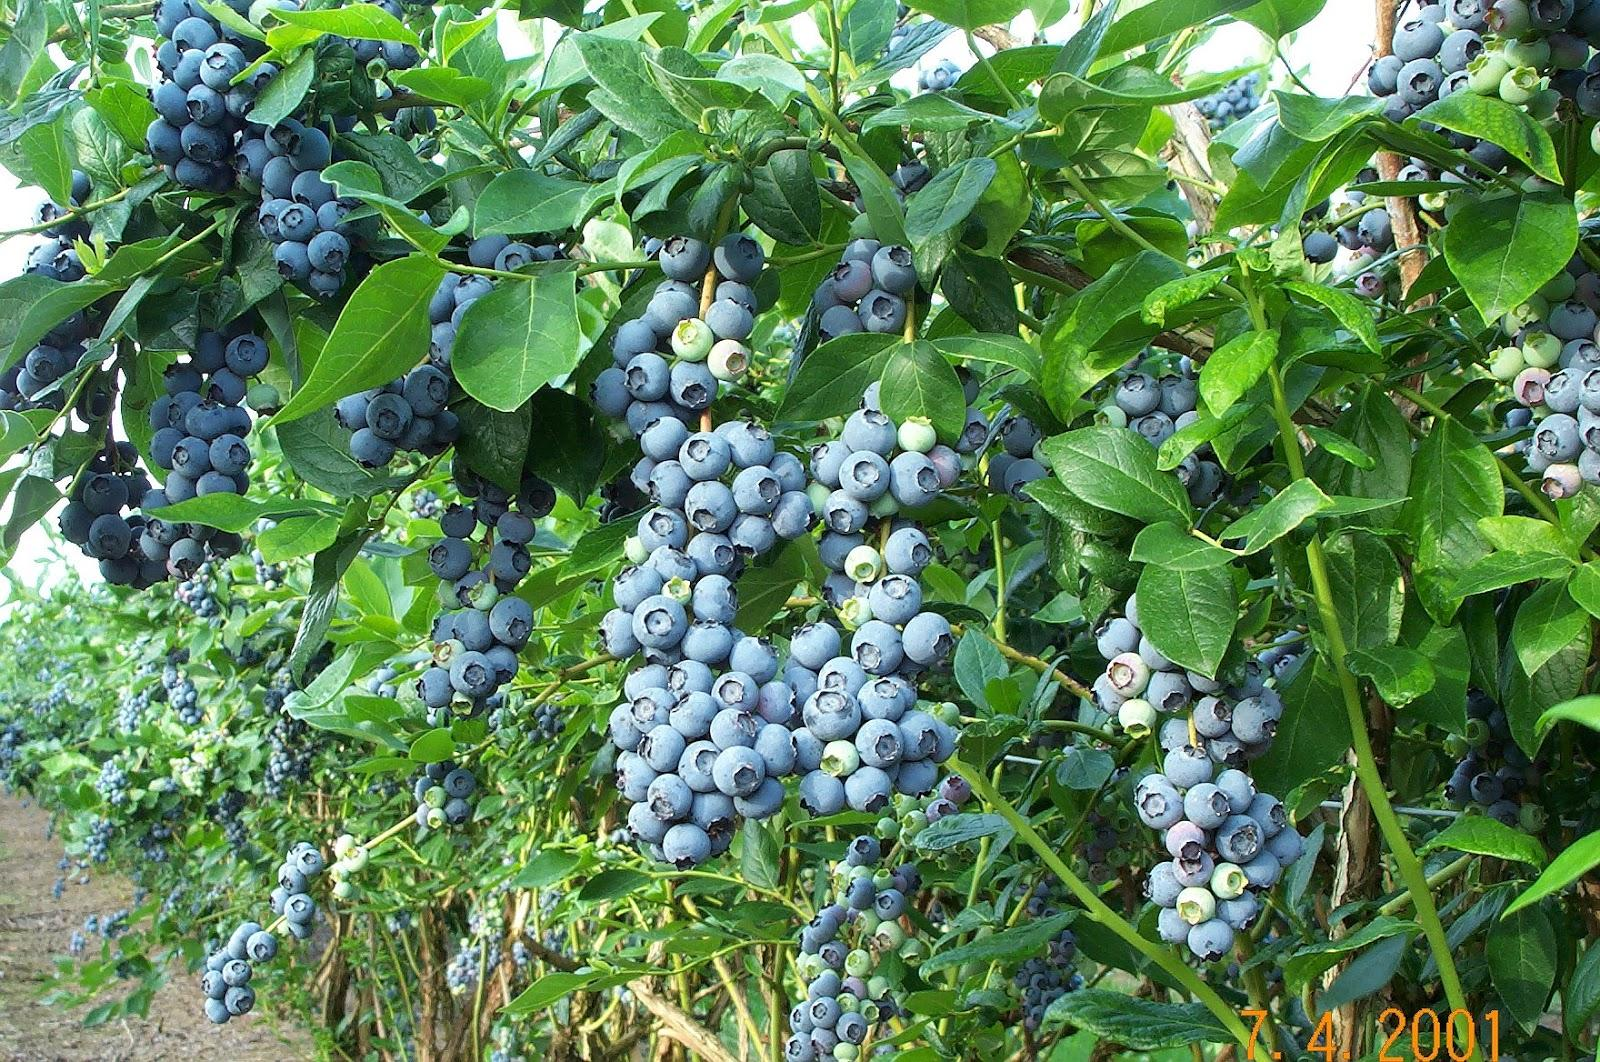Blueberry leaf: (244, 243, 465, 422), (1199, 79, 1404, 248), (772, 326, 1041, 446), (1446, 140, 1592, 353), (447, 248, 597, 452), (1042, 60, 1255, 178), (1397, 404, 1505, 619), (1001, 426, 1217, 527), (1124, 526, 1256, 682), (1257, 638, 1349, 845), (571, 15, 690, 127), (890, 151, 999, 270), (457, 164, 594, 255), (723, 143, 825, 256)
